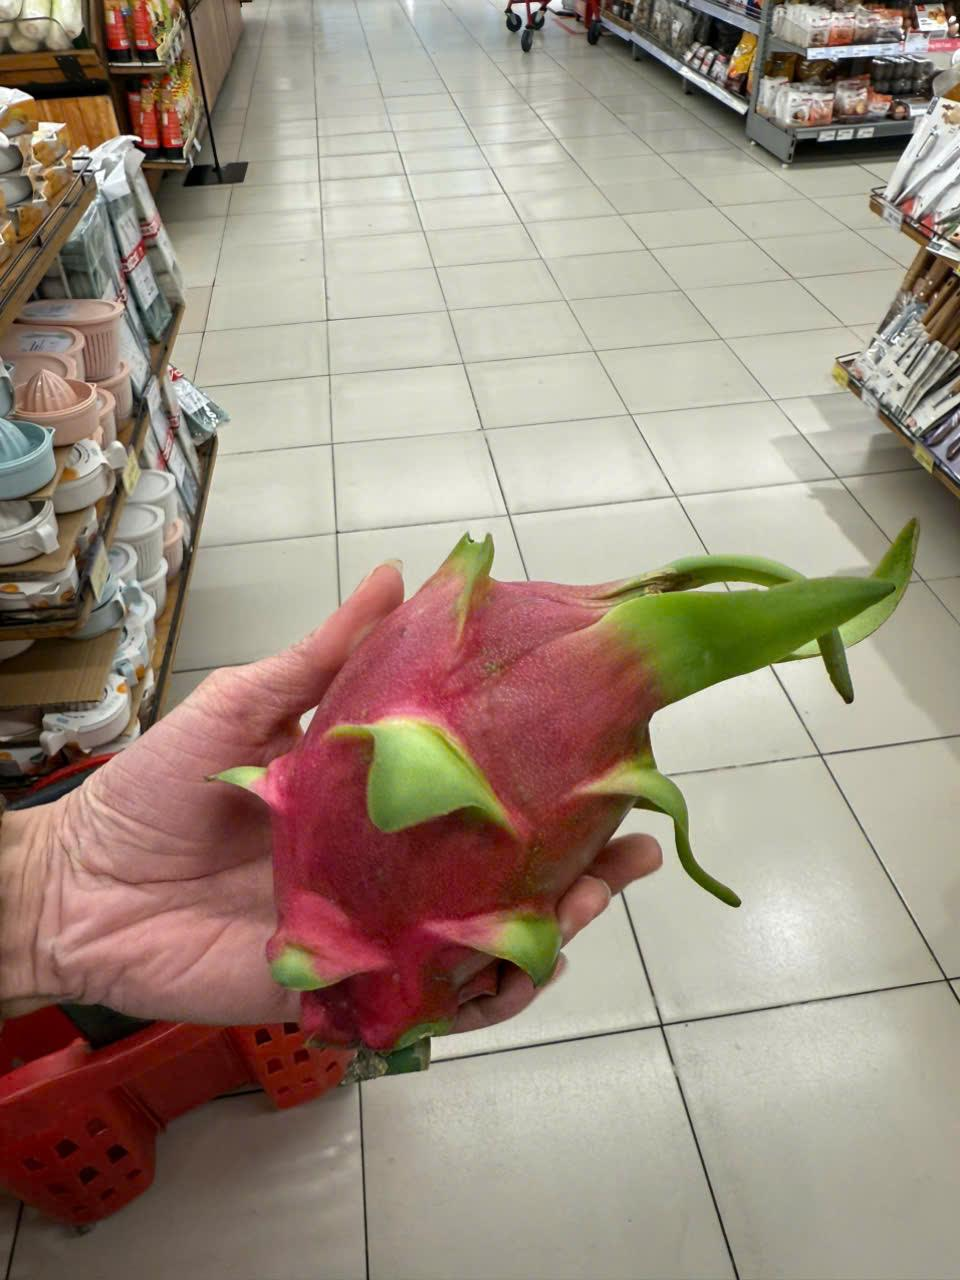dragon fruit: (267, 520, 942, 1046)
